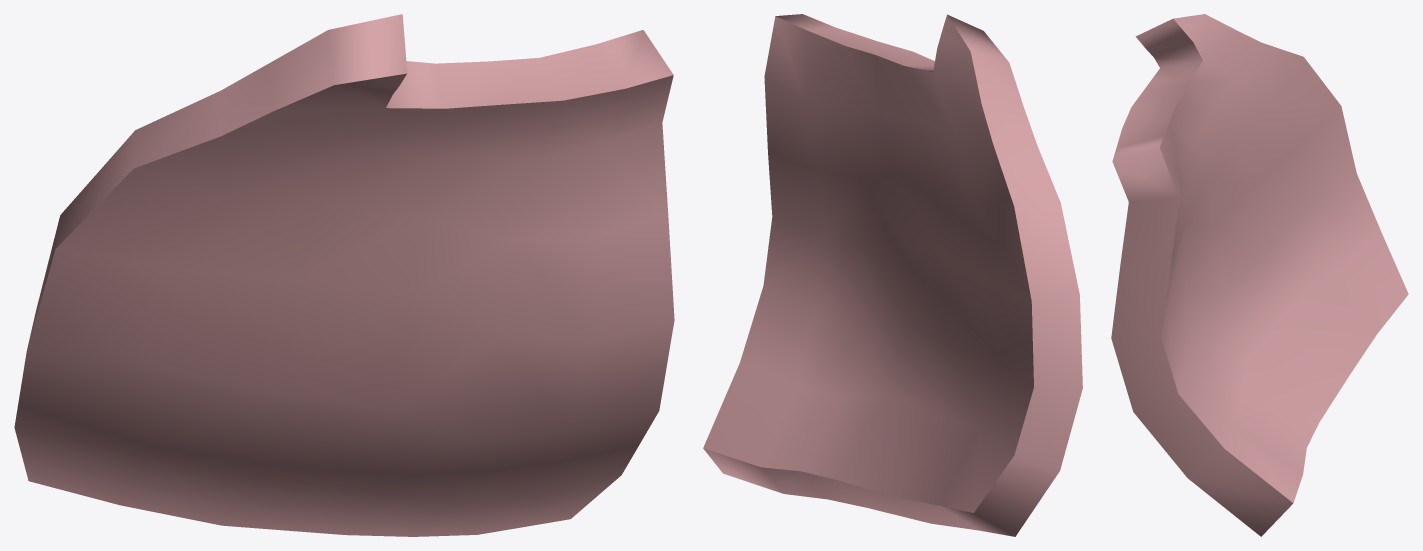
The picture shows the model from 3 angles, left to right: view 1: azimuth 30°, elevation 25°; view 2: azimuth 150°, elevation 25°; view 3: azimuth 270°, elevation 25°; orthographic projection. The views are drawn at different scales.
Visible parts, largest first — view 1: ZA_fcfa0e0ec0512a0a; view 2: ZA_fcfa0e0ec0512a0a; view 3: ZA_fcfa0e0ec0512a0a.
Part boxes in pixels (left/top/right/bottom): ZA_fcfa0e0ec0512a0a: left=14, top=14, right=674, bottom=536; ZA_fcfa0e0ec0512a0a: left=703, top=14, right=1082, bottom=536; ZA_fcfa0e0ec0512a0a: left=1111, top=14, right=1408, bottom=536.
Bounding box in the file's own units: 0.0254 × 0.0288 × 0.0178.
